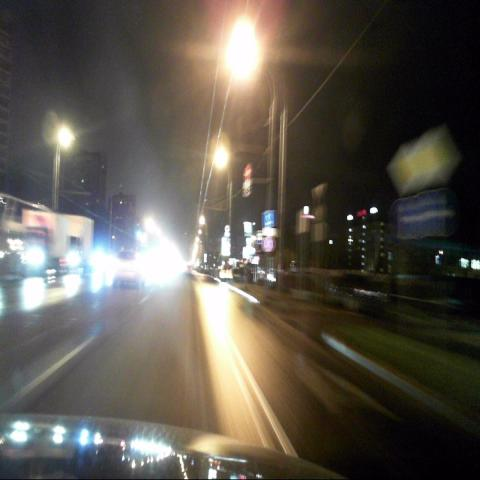2_1: (424, 129, 456, 184)
3_1: (244, 164, 252, 179)
3_27: (264, 237, 273, 251)
